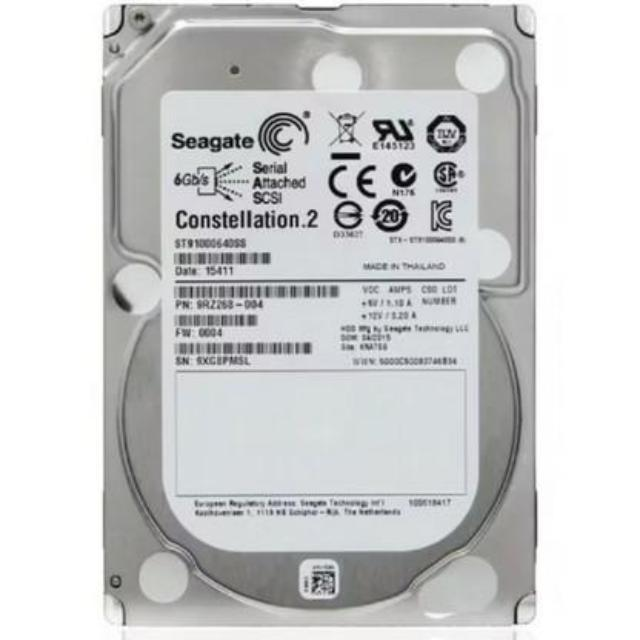DISK: (90, 0, 544, 637)
